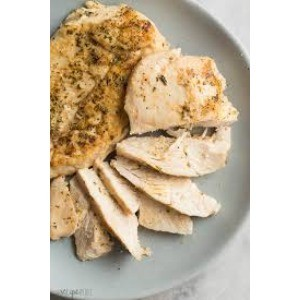chicken breast_brain food: (91, 61, 218, 251)
